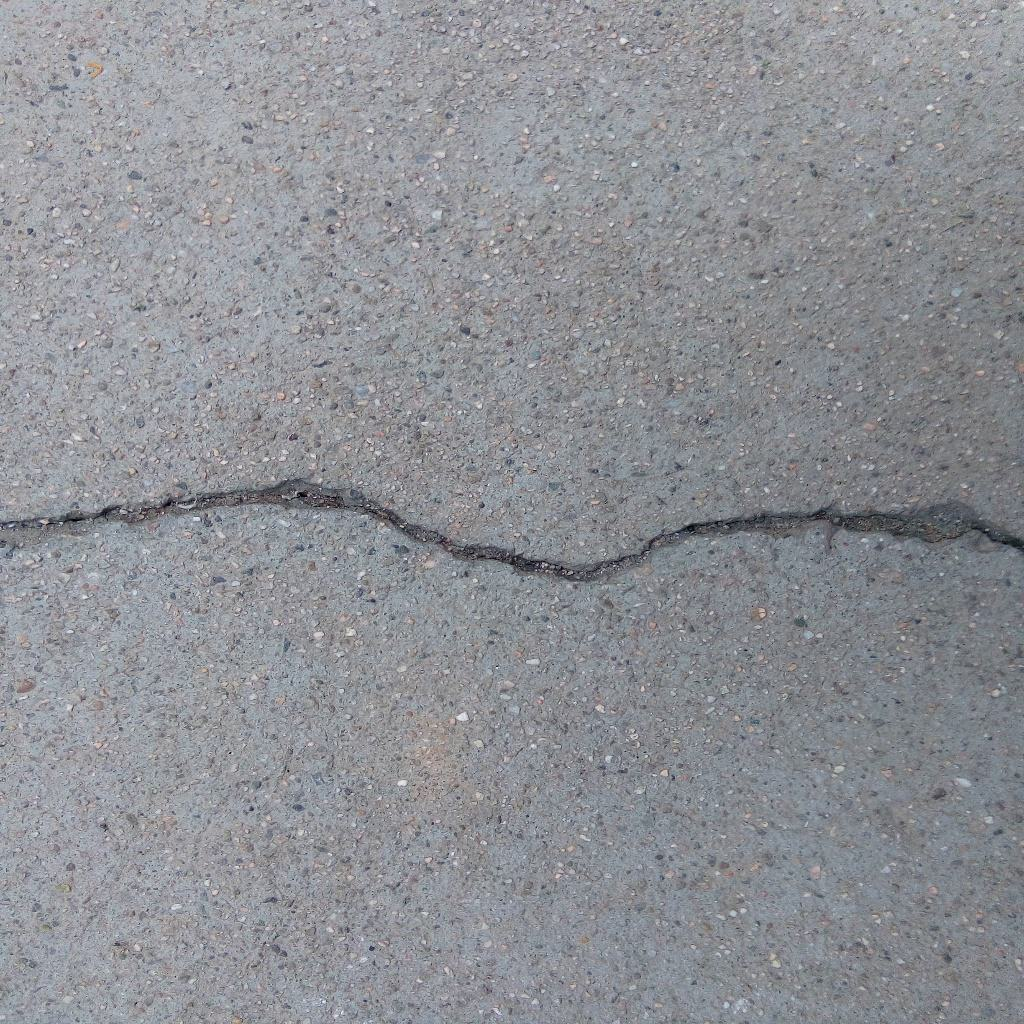Crack: (1, 476, 1024, 585)
